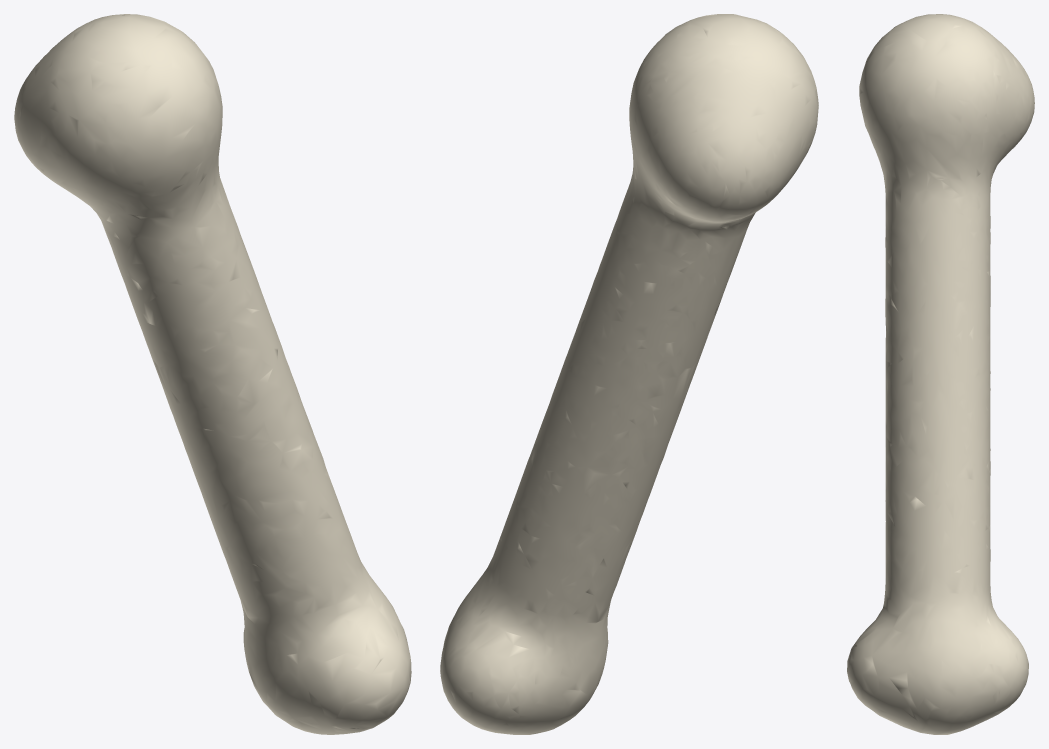
File: humerus_r.glb
3 renders of one model, left to right at view 1: azimuth 30°, elevation 25°; view 2: azimuth 150°, elevation 25°; view 3: azimuth 270°, elevation 25°, orthographic. The views are drawn at different scales.
Parts seen in each view (by area): view 1: geometry_0; view 2: geometry_0; view 3: geometry_0.
Part boxes in pixels (<box>): geometry_0: <box>14,14,411,734</box>; geometry_0: <box>440,14,818,734</box>; geometry_0: <box>847,14,1034,734</box>.
Bounding box in the file's own units: 0.4398 × 0.8987 × 0.2439.
